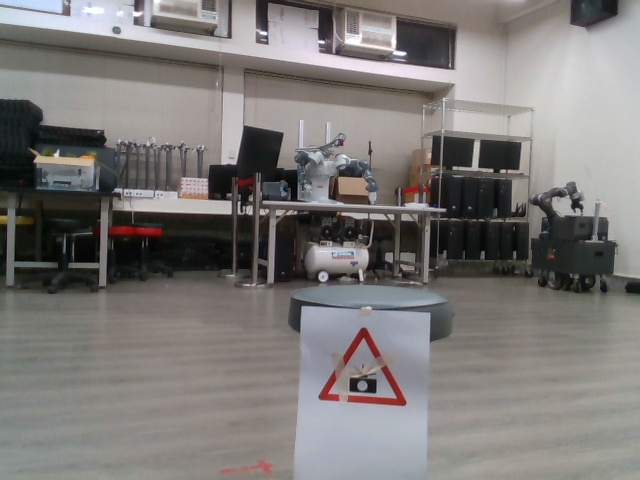camera: (316, 318, 411, 414)
